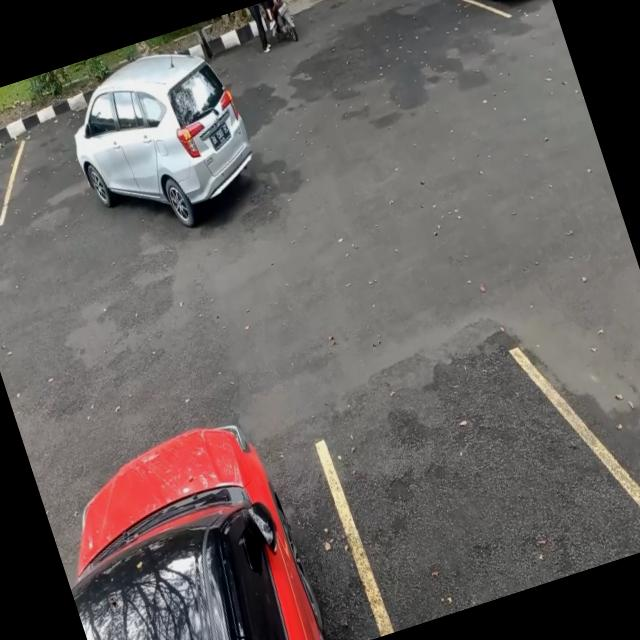empty: (306, 338, 626, 638), (0, 128, 42, 238)
occupied: (427, 0, 552, 33)
